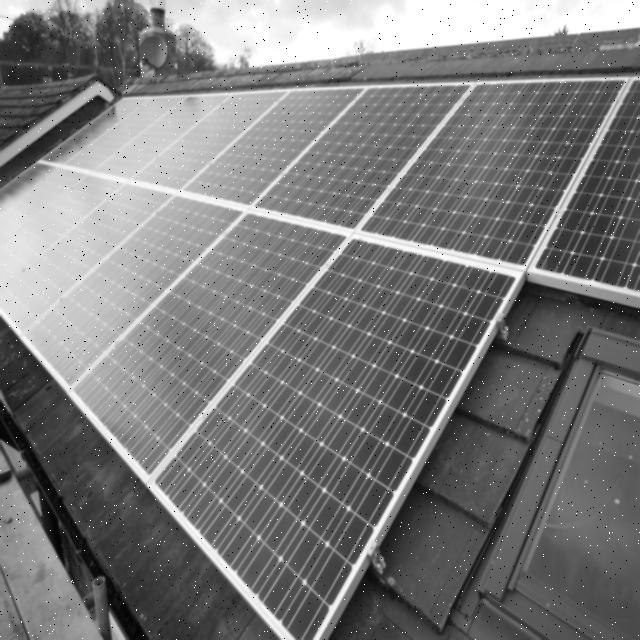clean: (159, 85, 621, 639)
